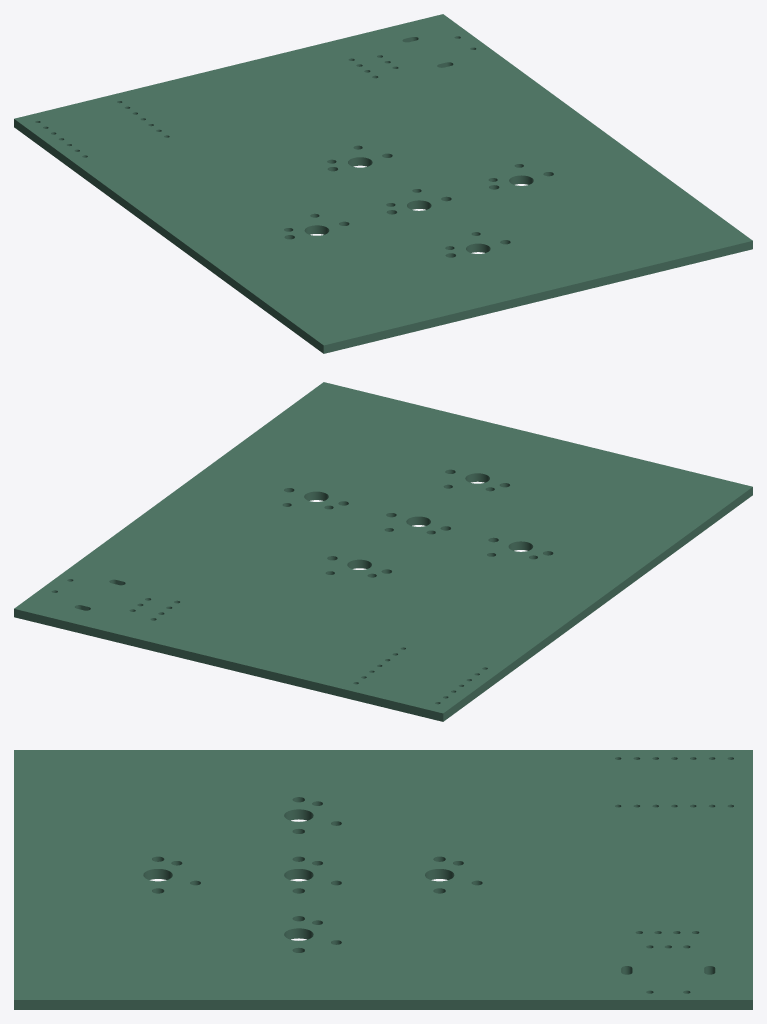
File: pcb.glb
The picture shows the model from 3 angles, top to bottom: view 1: azimuth 30°, elevation 25°; view 2: azimuth 150°, elevation 25°; view 3: azimuth 270°, elevation 25°; orthographic projection. The views are drawn at different scales.
Visible parts, largest first — view 1: =>[0:1:1:2]; view 2: =>[0:1:1:2]; view 3: =>[0:1:1:2].
Boxes of the visible parts, x1,y1,x2,y2 form: =>[0:1:1:2]: [14, 14, 752, 353]; =>[0:1:1:2]: [14, 382, 752, 721]; =>[0:1:1:2]: [14, 750, 752, 1009].
Bounding box in the file's own units: 0.08 × 0.00151 × 0.1.
